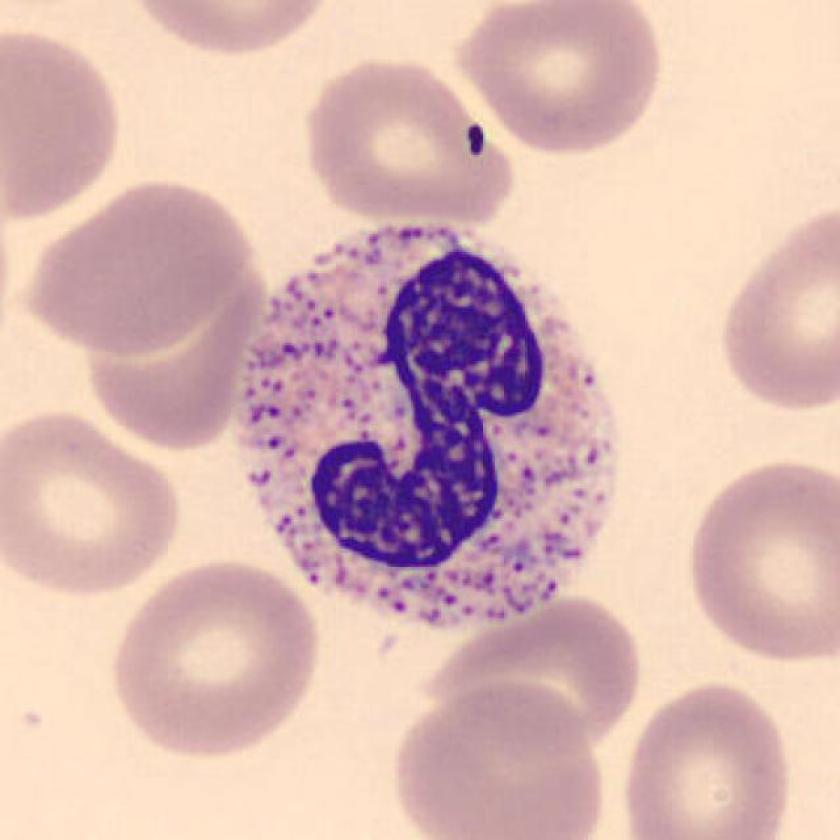neutrophil: (232, 228, 619, 636)
